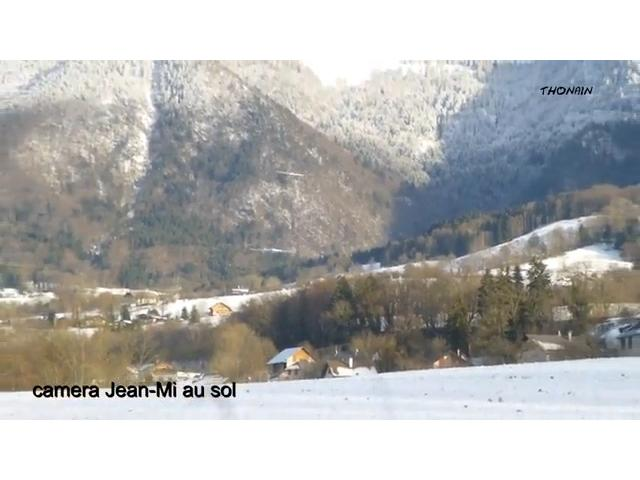Anti-Drone: (240, 230, 304, 266), (271, 160, 315, 188)
